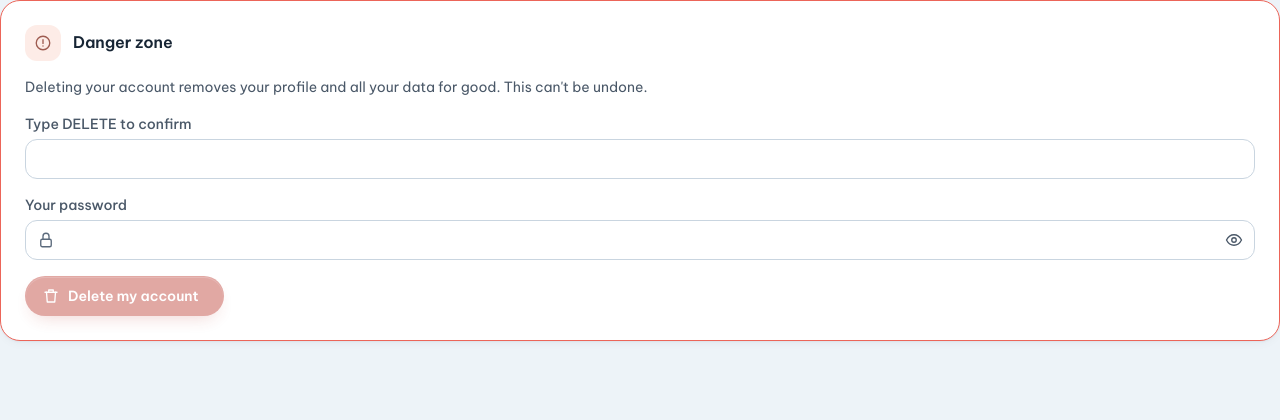
Test: DangerSection › shows the error and stays signed in when the password is wrong
In the field labelled "Type DELETE to confirm": (640, 159) top-left (25, 139), bottom-right (1255, 179), type "DELETE"
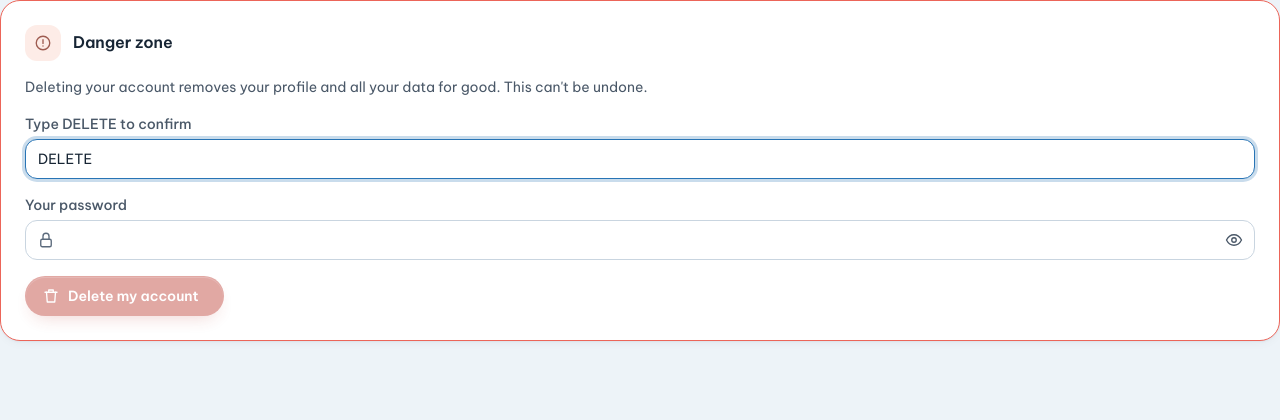
In the password field labelled "Your password": (640, 240) top-left (25, 220), bottom-right (1255, 260), type "nope"
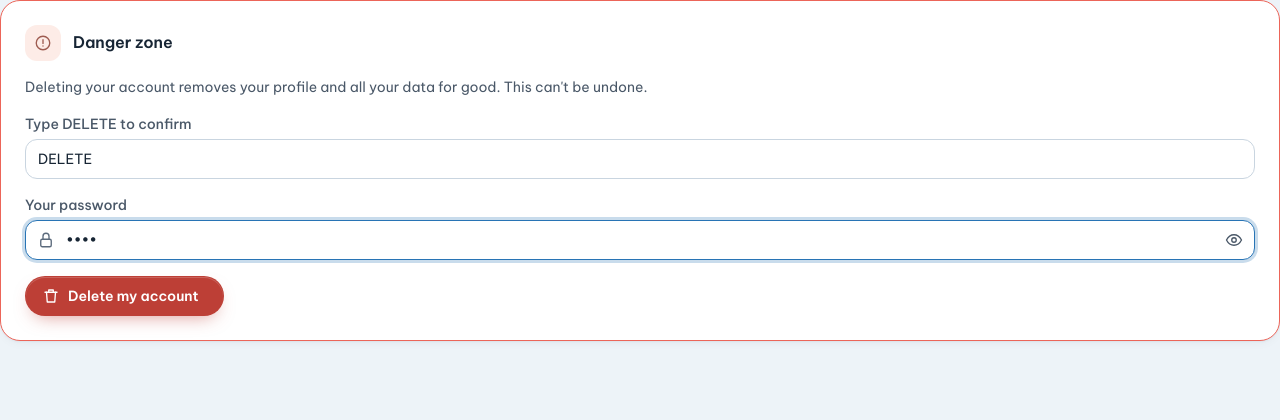
Click the button "Delete my account": (124, 296) top-left (25, 276), bottom-right (224, 316)
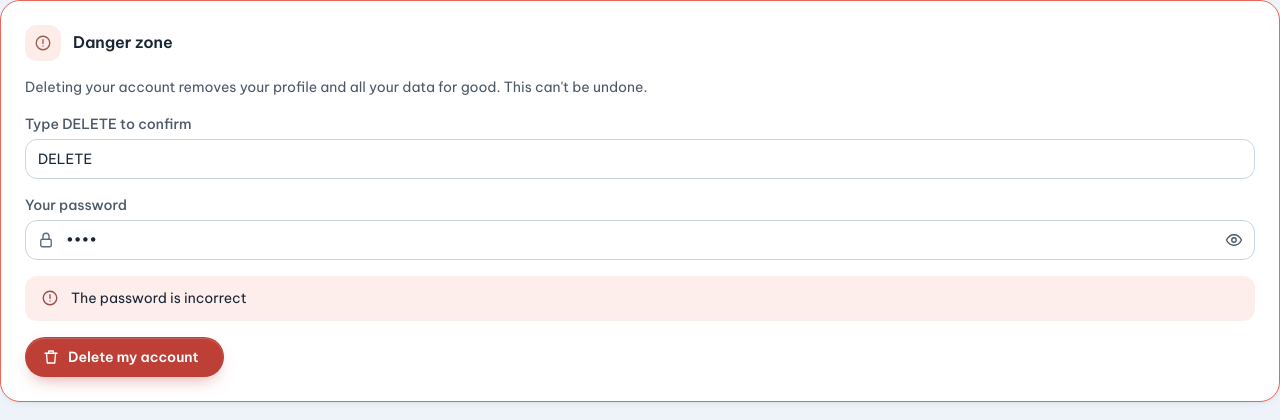
Check: the button "Delete my account" is enabled, box top-left (25, 337), bottom-right (224, 377)
Check: the message reads "The password is incorrect", box top-left (71, 289), bottom-right (247, 307)
